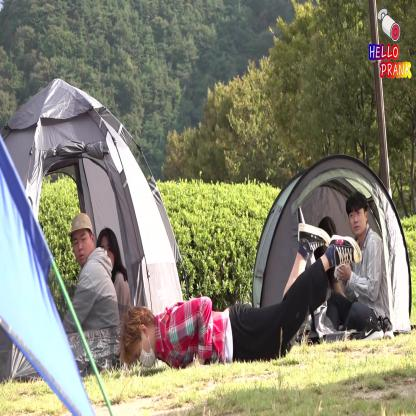Fall_Down: (123, 223, 363, 370)
